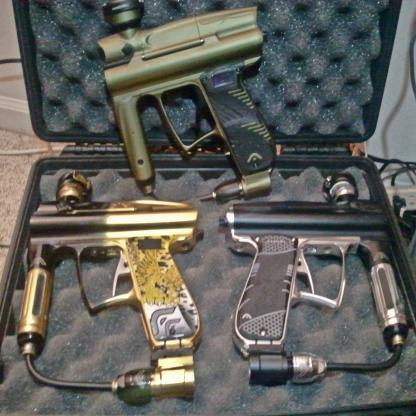Handgun: (17, 169, 204, 405), (218, 173, 408, 386), (96, 0, 277, 203)
